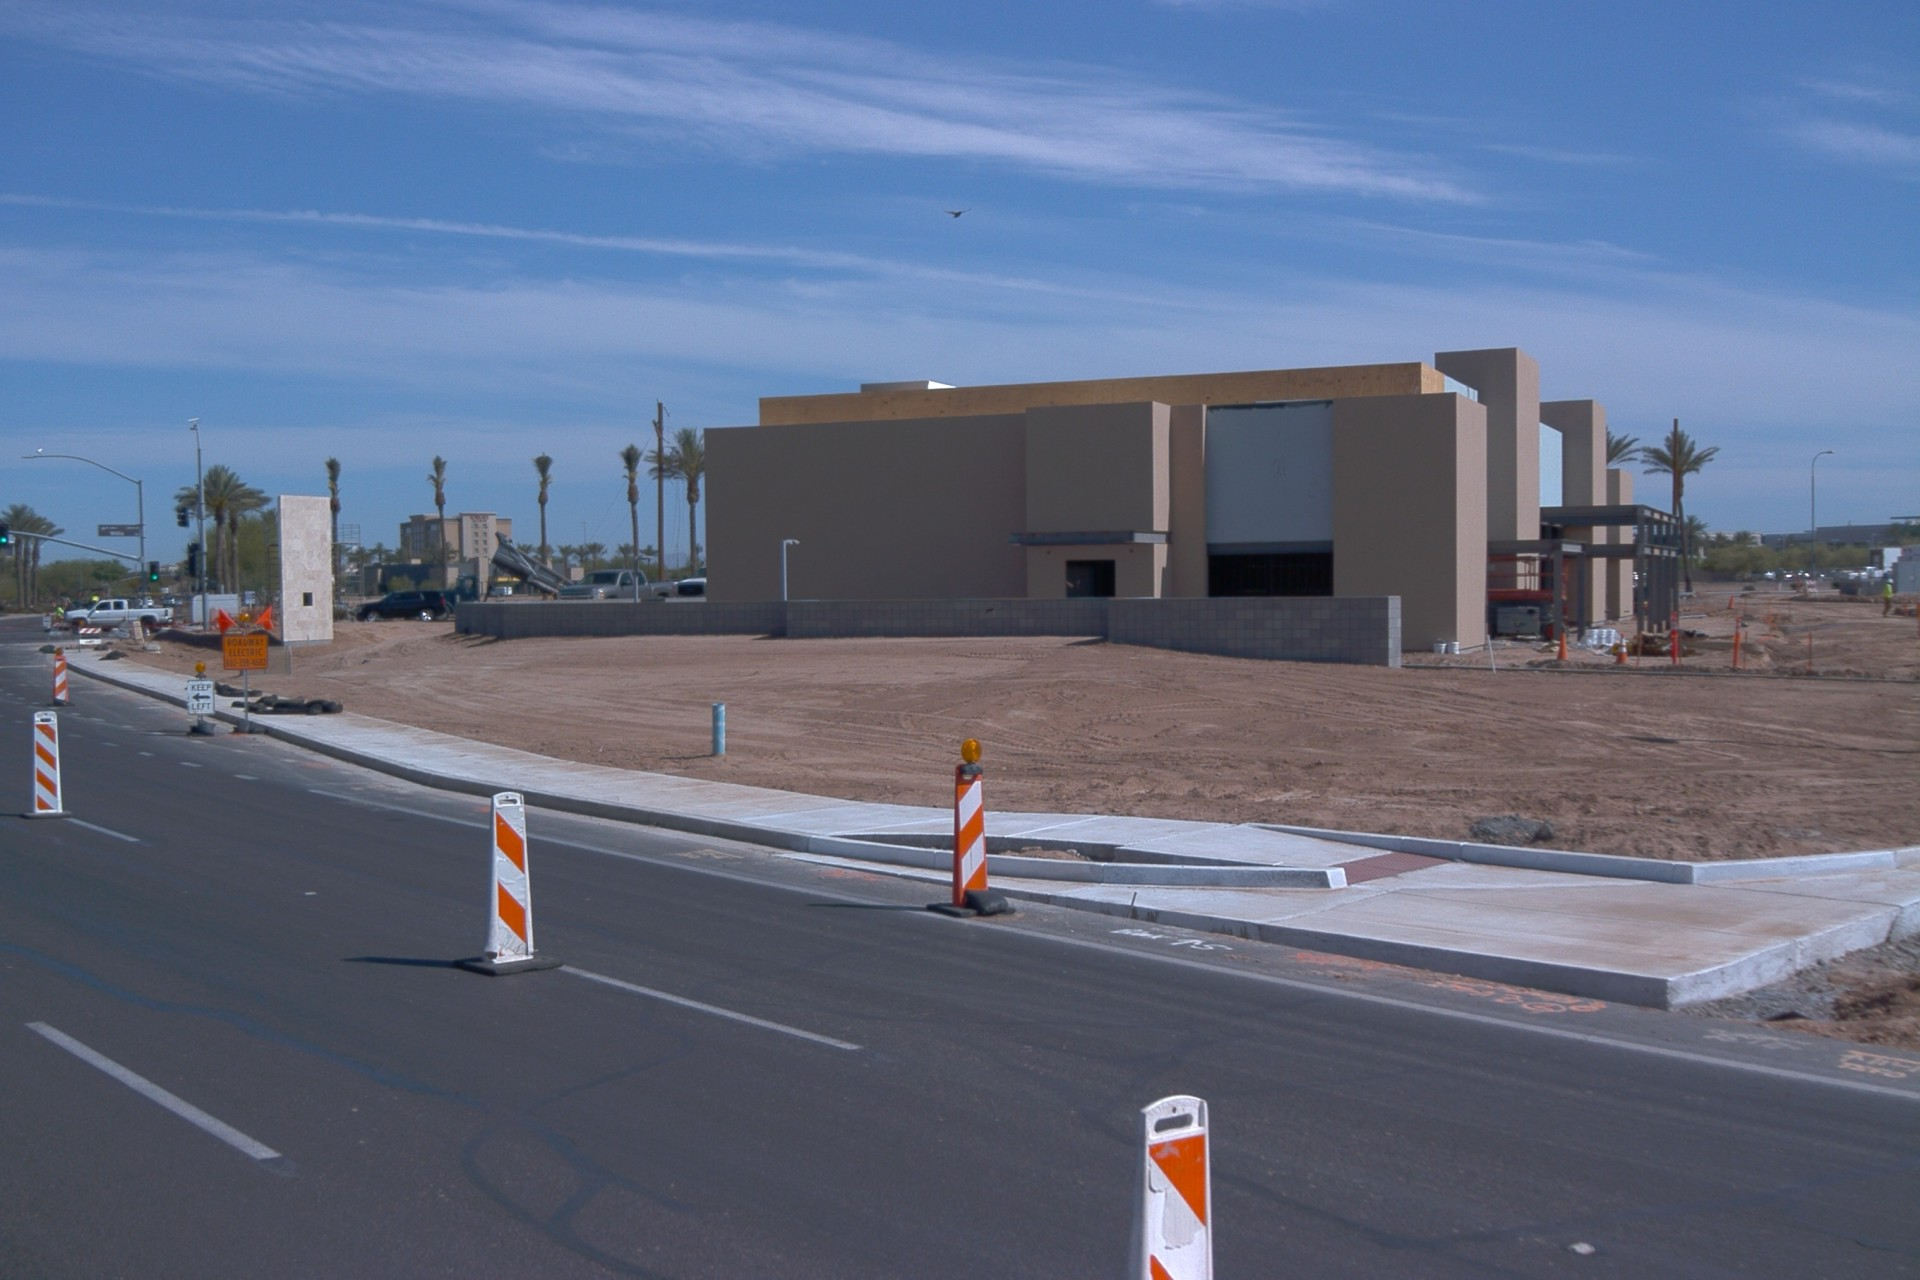TYPE_PEDESTRIAN: (1877, 575, 1898, 618), (56, 603, 63, 616)
TYPE_VEHICLE: (449, 531, 581, 611), (551, 562, 686, 603), (62, 598, 174, 639), (347, 583, 451, 624), (189, 593, 246, 633), (667, 560, 711, 605), (74, 587, 108, 609), (490, 585, 513, 598), (141, 595, 155, 607)
